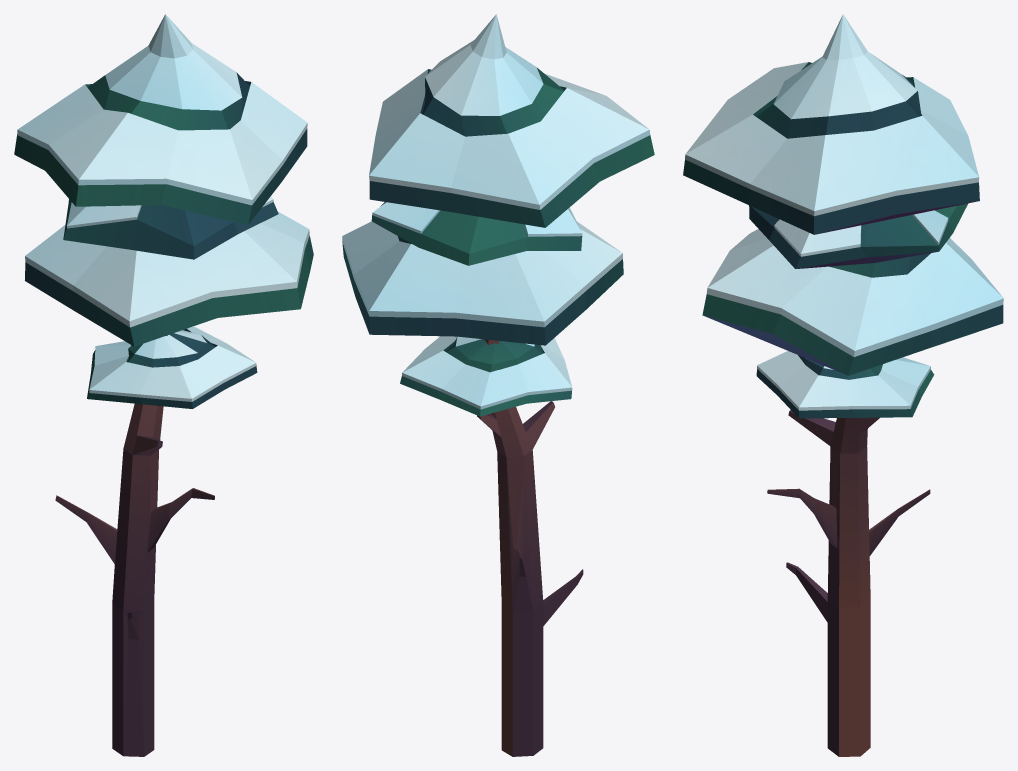
Rendered from PineSnowTree02.fbx.
The picture shows the model from 3 angles, left to right: view 1: azimuth 30°, elevation 25°; view 2: azimuth 150°, elevation 25°; view 3: azimuth 270°, elevation 25°; orthographic projection. The views are drawn at different scales.
Visible parts, largest first — view 1: TolSnowTree1; view 2: TolSnowTree1; view 3: TolSnowTree1.
Boxes of the visible parts, x1,y1,x2,y2 form: TolSnowTree1: (14,14,313,756); TolSnowTree1: (342,14,654,756); TolSnowTree1: (683,14,1003,756).
Size of the model in its own units: 254 by 645 by 250.
